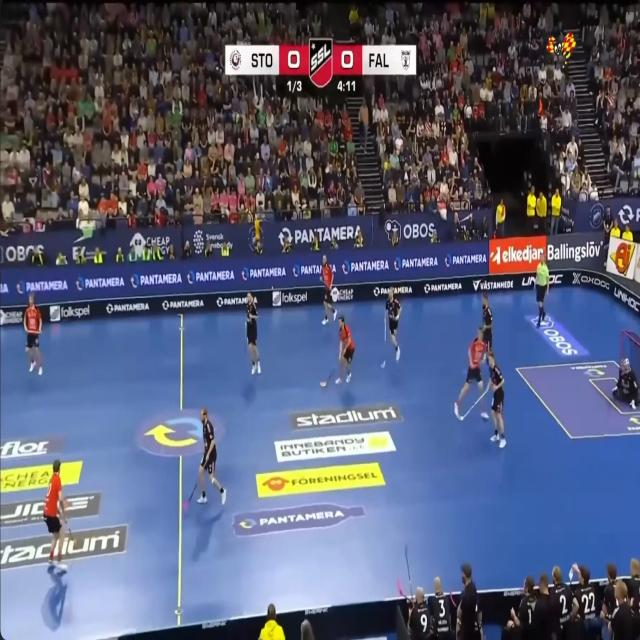player: (454, 328, 485, 418), (197, 407, 225, 504), (43, 459, 66, 570), (487, 350, 506, 448), (550, 566, 573, 639), (428, 577, 453, 639), (23, 293, 42, 374), (612, 358, 640, 409), (407, 588, 431, 639), (246, 292, 261, 373), (336, 317, 354, 382), (321, 255, 337, 324), (535, 255, 550, 328), (386, 287, 401, 360), (482, 293, 492, 351), (481, 406, 488, 419), (481, 399, 482, 403)
stick: (460, 385, 489, 420), (404, 544, 412, 599), (397, 577, 411, 601), (320, 368, 334, 387), (187, 480, 197, 502), (65, 521, 74, 541), (384, 311, 387, 344), (245, 320, 247, 355), (380, 358, 385, 368)
